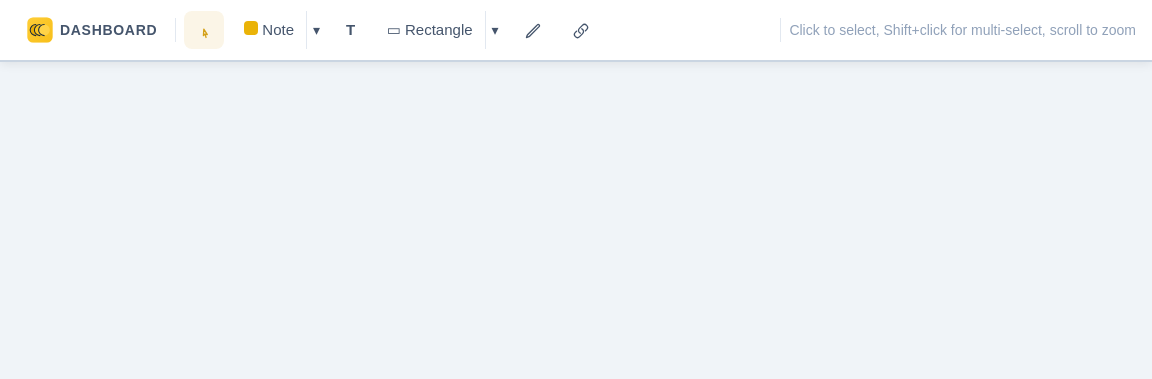
Scenario: Toolbar › shows all 11 shape options when dropdown toggle clicked
Note: The second ▾ is the shape dropdown (first is sticky color dropdown)
Click the 2nd button "▾": (495,30) left=485, top=11, right=505, bottom=49
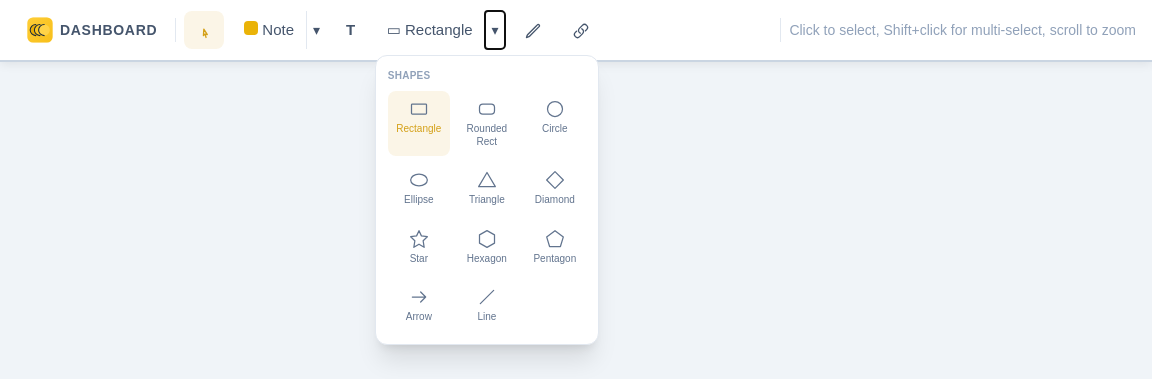
Expected: the text "Shapes" is shown, left=388, top=70, right=430, bottom=81
Expected: the text "Circle" is shown, left=542, top=123, right=568, bottom=136
Expected: the text "Triangle" is shown, left=469, top=194, right=505, bottom=207
